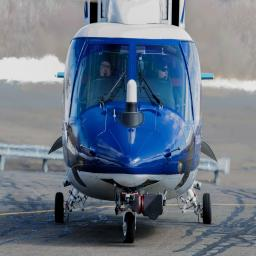helicopter: (48, 1, 228, 246)
